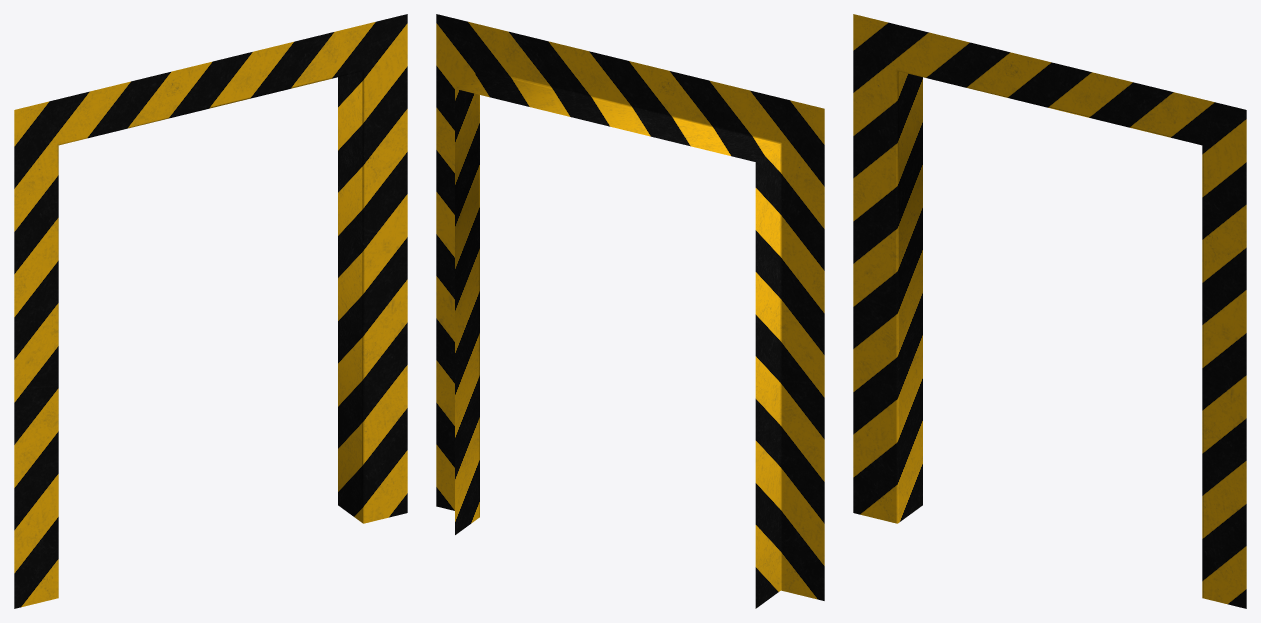
File: signage_roundhall_blastdoor_frame_cr.fbx
The picture shows the model from 3 angles, left to right: view 1: azimuth 30°, elevation 25°; view 2: azimuth 150°, elevation 25°; view 3: azimuth 330°, elevation 25°; orthographic projection.
Parts seen in each view (by area): view 1: signage_roundhall_blastdoor_frame_cr; view 2: signage_roundhall_blastdoor_frame_cr; view 3: signage_roundhall_blastdoor_frame_cr.
Part boxes in pixels (<box>): signage_roundhall_blastdoor_frame_cr: <box>14,14,407,608</box>; signage_roundhall_blastdoor_frame_cr: <box>436,14,824,608</box>; signage_roundhall_blastdoor_frame_cr: <box>853,14,1246,608</box>.
Size of the model in its own units: 0.2286 by 2.03 by 2.46.
